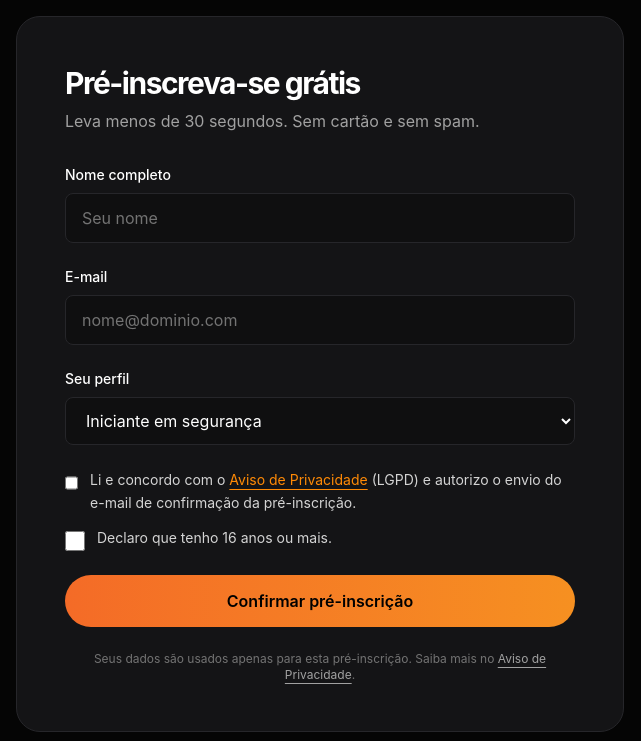
Test case: PreEnrollmentForm › modo habilitado › 429 → estado rate-limited com mensagem amigável
The image size is (641, 741).
Step 1. Type "Maria Silva" into the field labelled "Nome completo" → (320, 218), box top-left (65, 193), bottom-right (575, 243)
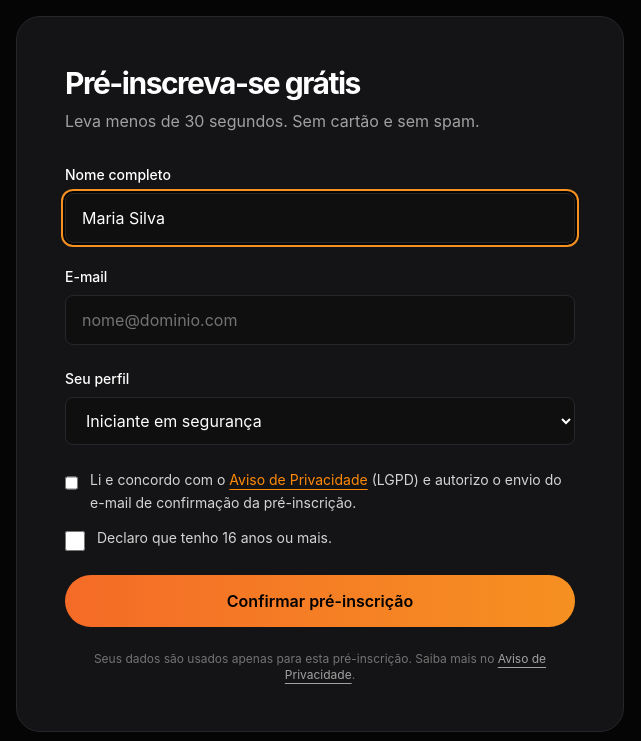
Step 2. Type "maria@exemplo.com" into the field labelled "E-mail" → (320, 320), box top-left (65, 295), bottom-right (575, 345)
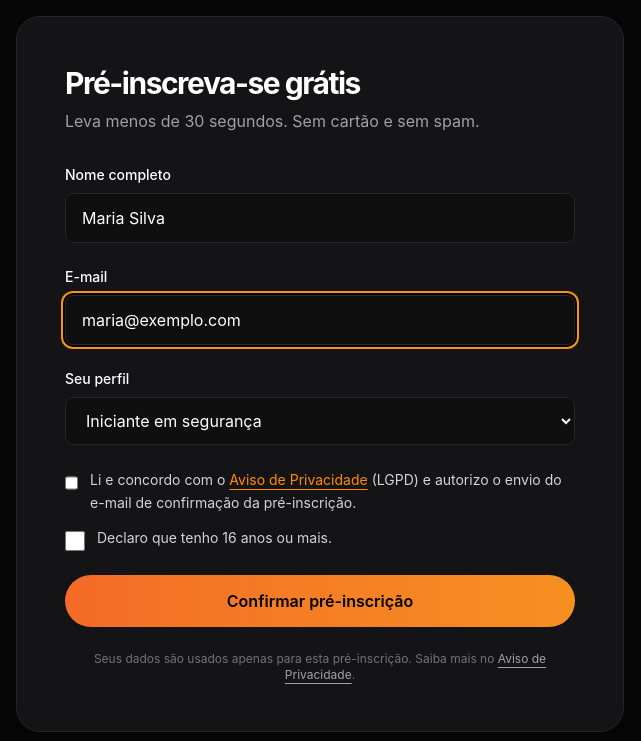
Step 3. Click the checkbox labelled "Li e concordo" → (72, 483), box top-left (65, 473), bottom-right (78, 493)
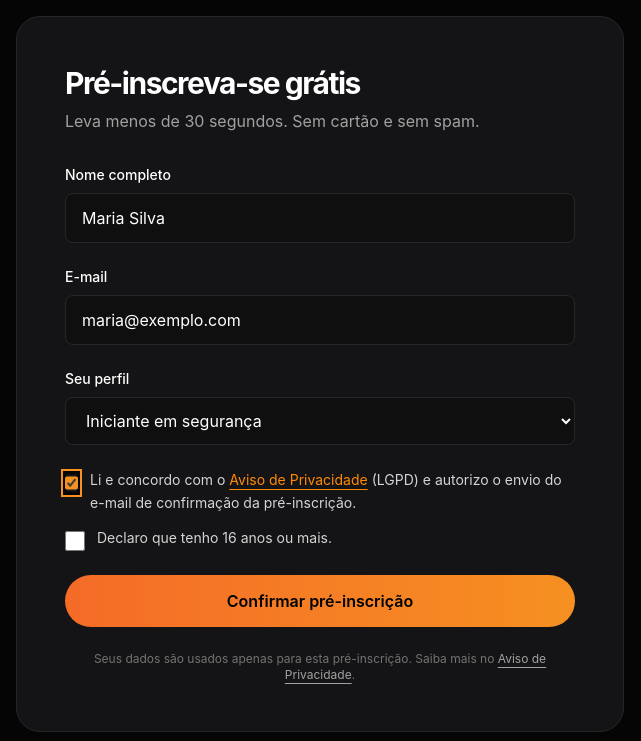
Step 4. Click the checkbox labelled "Declaro que tenho 16 anos ou mais." → (75, 540), box top-left (65, 530), bottom-right (85, 550)
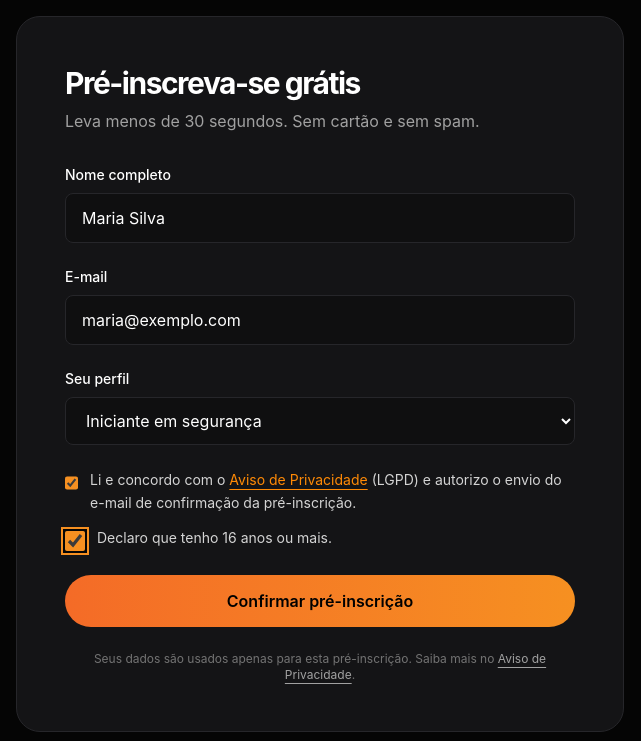
Step 5. Click the button "Confirmar pré-inscrição" → (320, 600), box top-left (65, 574), bottom-right (575, 626)
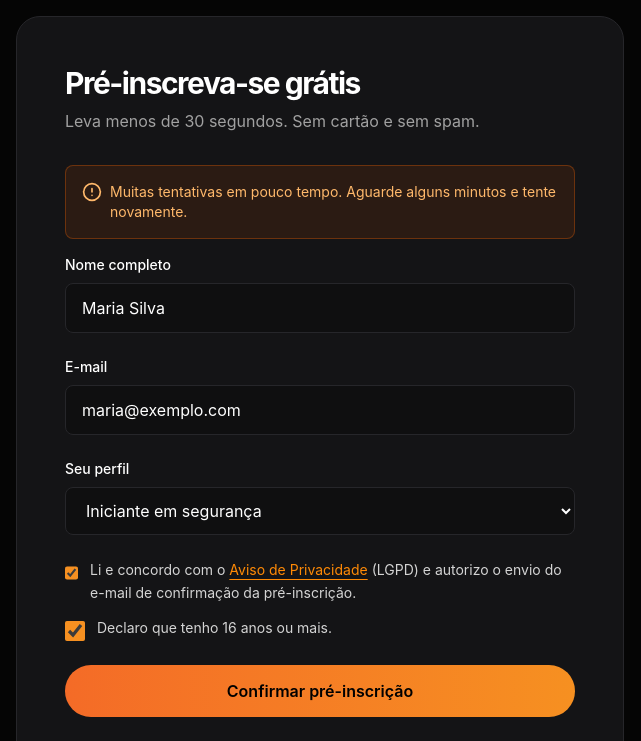
Expected: the text "Muitas tentativas em pouco tempo" is shown, top-left (110, 183), bottom-right (556, 220)
